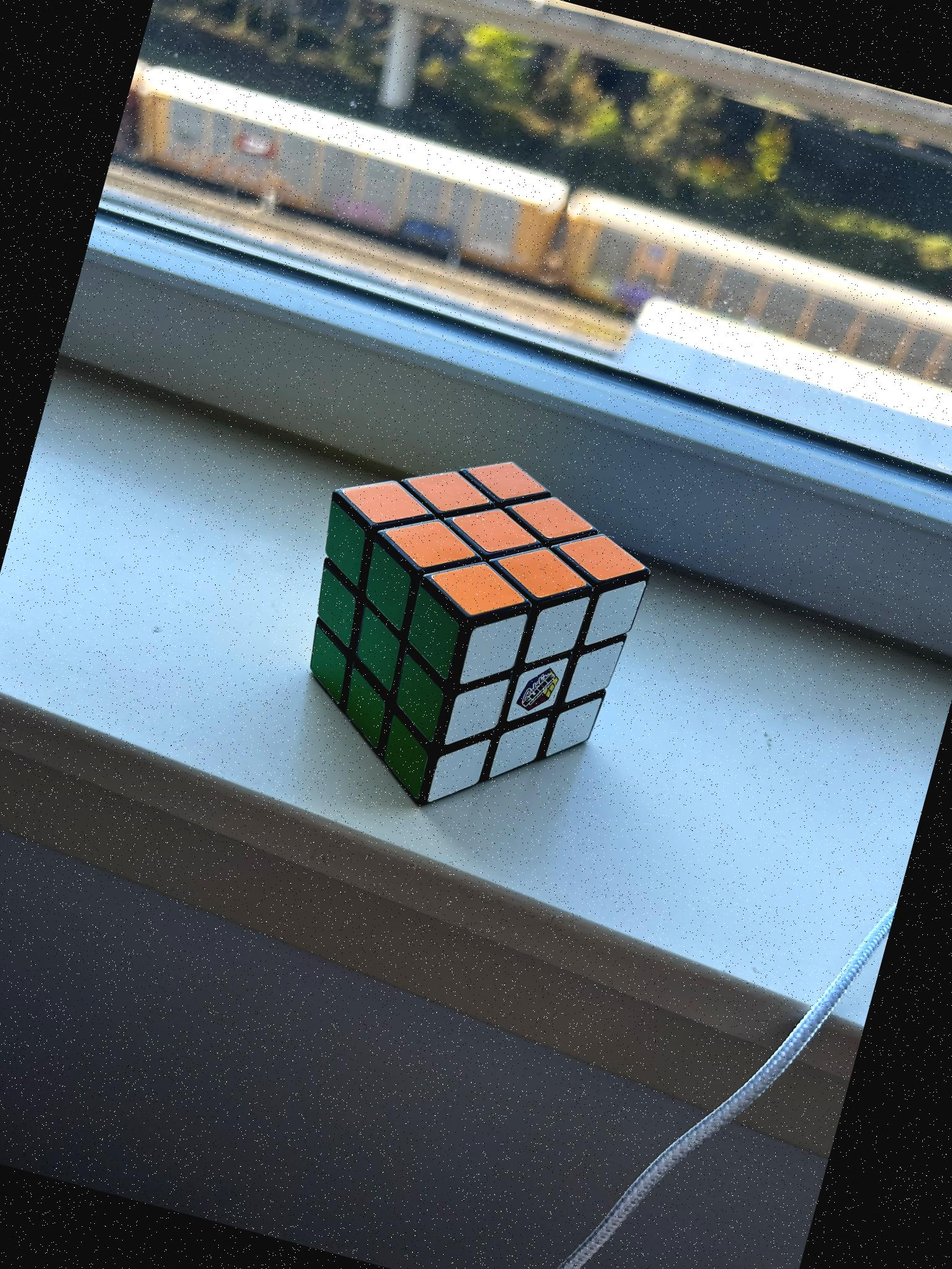rubiks_cube: (309, 461, 646, 801)
